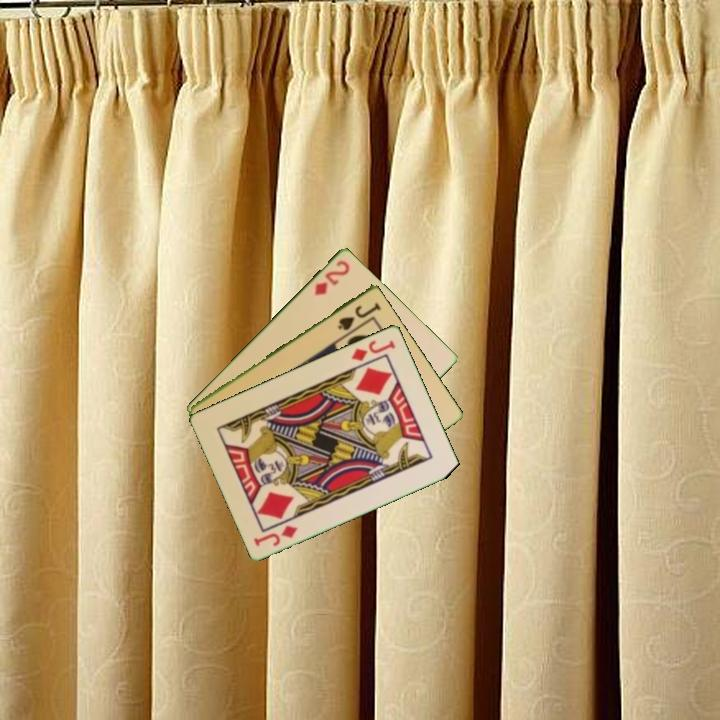2d: (311, 256, 353, 298)
Jd: (250, 521, 301, 549), (348, 336, 398, 364)
Js: (334, 298, 383, 333)
